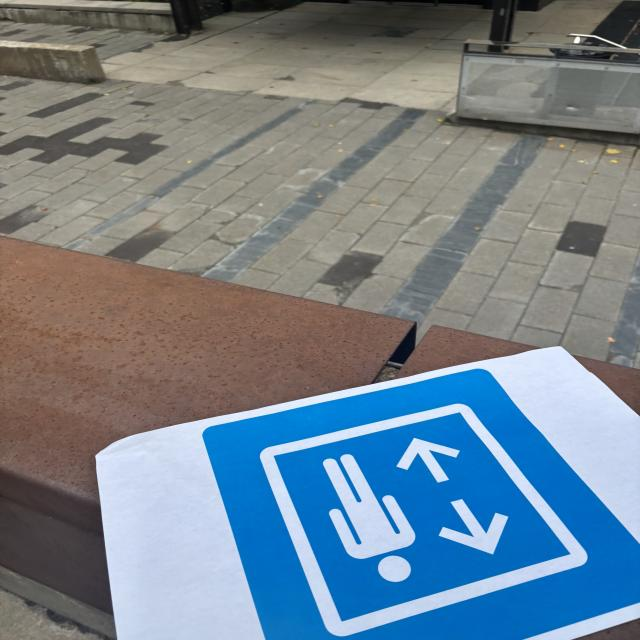elevator: (209, 368, 640, 640)
